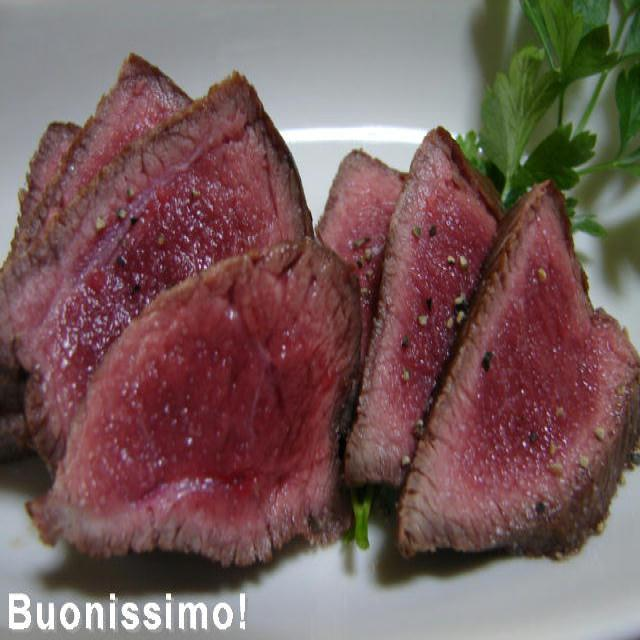熟制海鲜: (0, 27, 640, 636)
